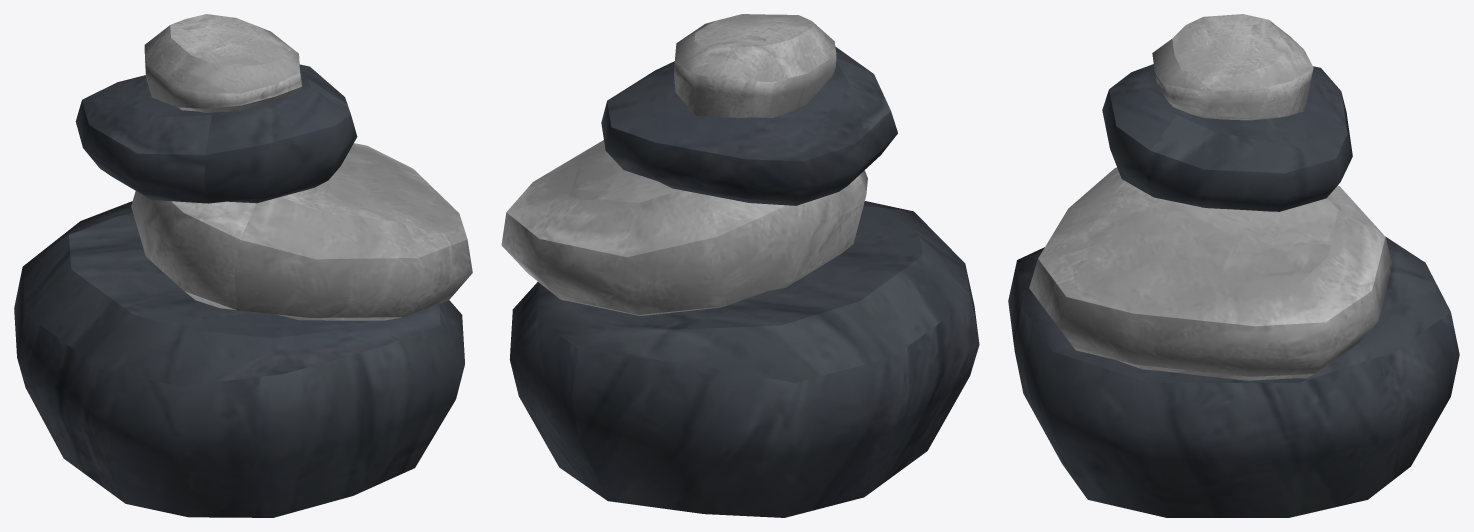
The model's file is pm-stand-pedestal-01.glb.
3 renders of one model, left to right at view 1: azimuth 30°, elevation 25°; view 2: azimuth 150°, elevation 25°; view 3: azimuth 270°, elevation 25°, orthographic. The views are drawn at different scales.
Visible parts, largest first — view 1: StandPedestal01; view 2: StandPedestal01; view 3: StandPedestal01.
Boxes of the visible parts, x1,y1,x2,y2 form: StandPedestal01: (14,14,472,517); StandPedestal01: (501,14,979,517); StandPedestal01: (1008,14,1459,517).
Size of what is drawn, in the model's own units: 0.7963 by 0.8249 by 0.8302.
Materials: 1 (1 with a texture image).
